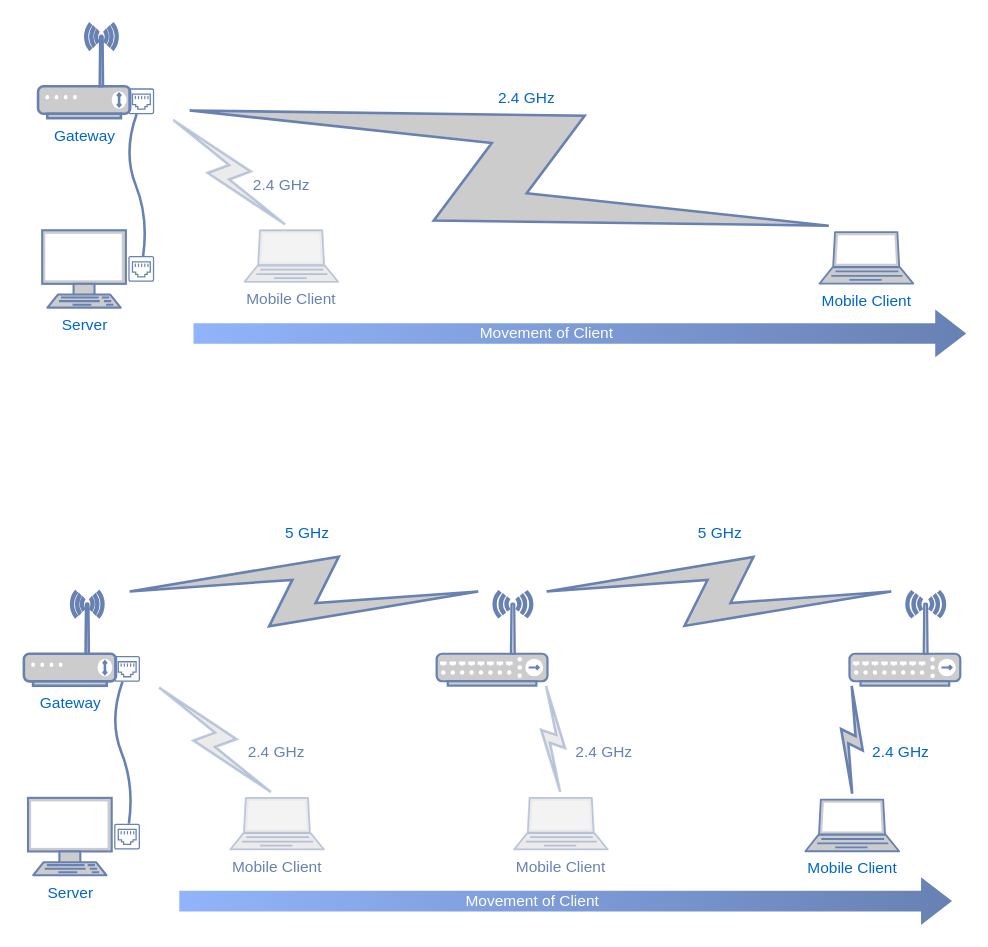
The diagram is 988 pixels wide and 947 high, and some of its shapes have lost their labels. Each missing label, with the centre of its shape:
Extender A: the point at 491,638
Extender B: the point at 904,638
